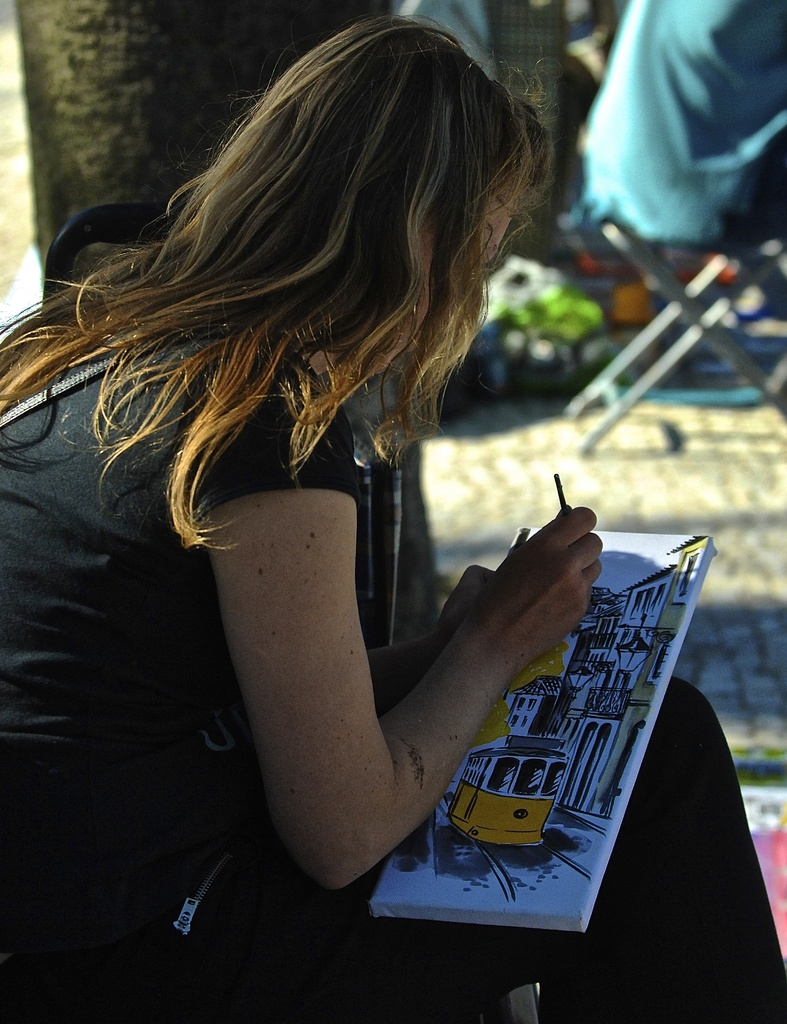Human_hand: (483, 506, 602, 658), (434, 561, 495, 652)
